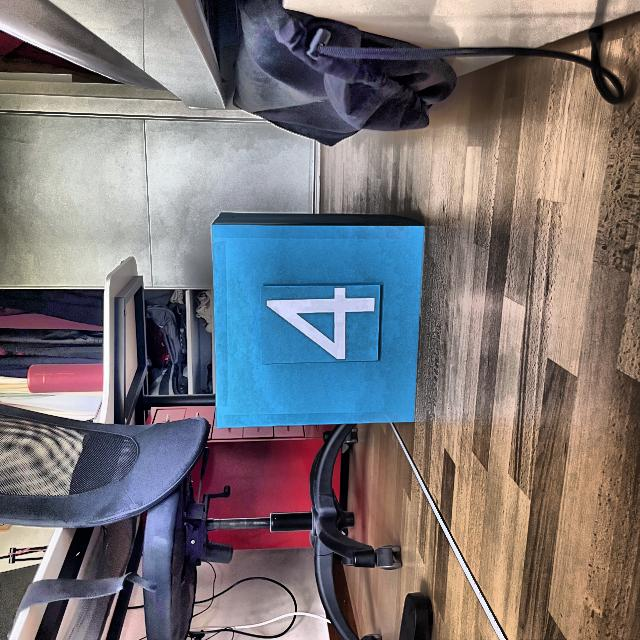blue box: (210, 211, 420, 429)
four: (266, 285, 378, 362)
